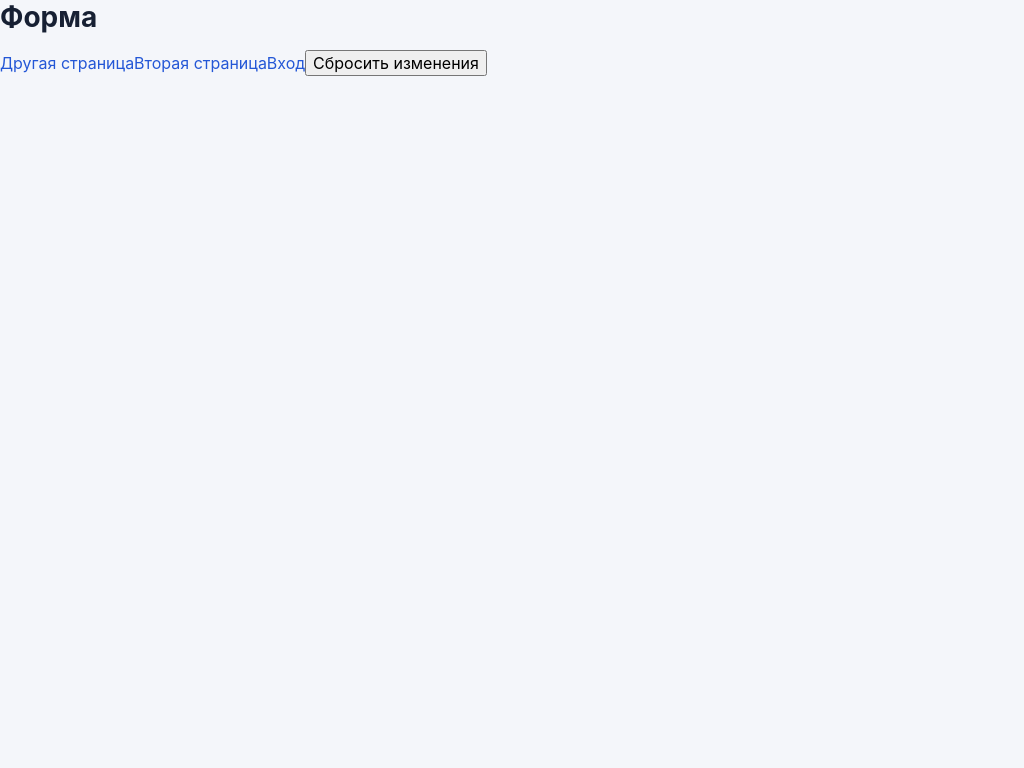
UnsavedChangesGuard › asks before leaving a dirty form and keeps the destination hidden
The width and height of the screenshot is (1024, 768).
Click the link "Другая страница" at (67, 63), box [0,53,134,73]
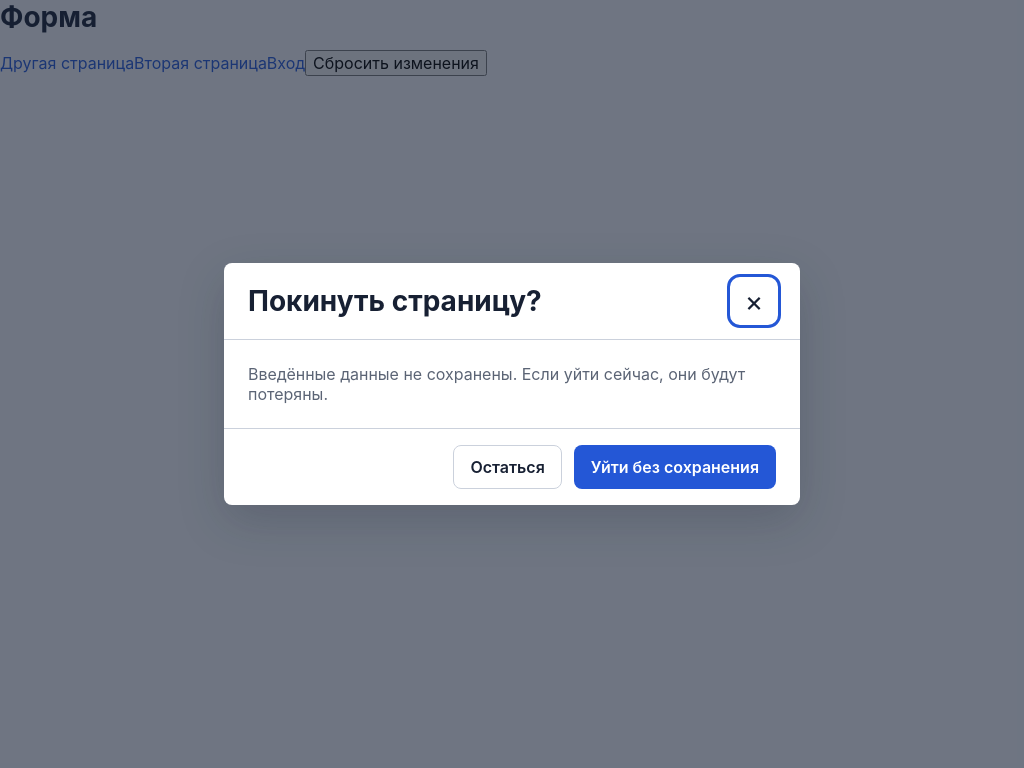
Expected: the dialog "Покинуть страницу?" is shown, [224,263,800,505]
